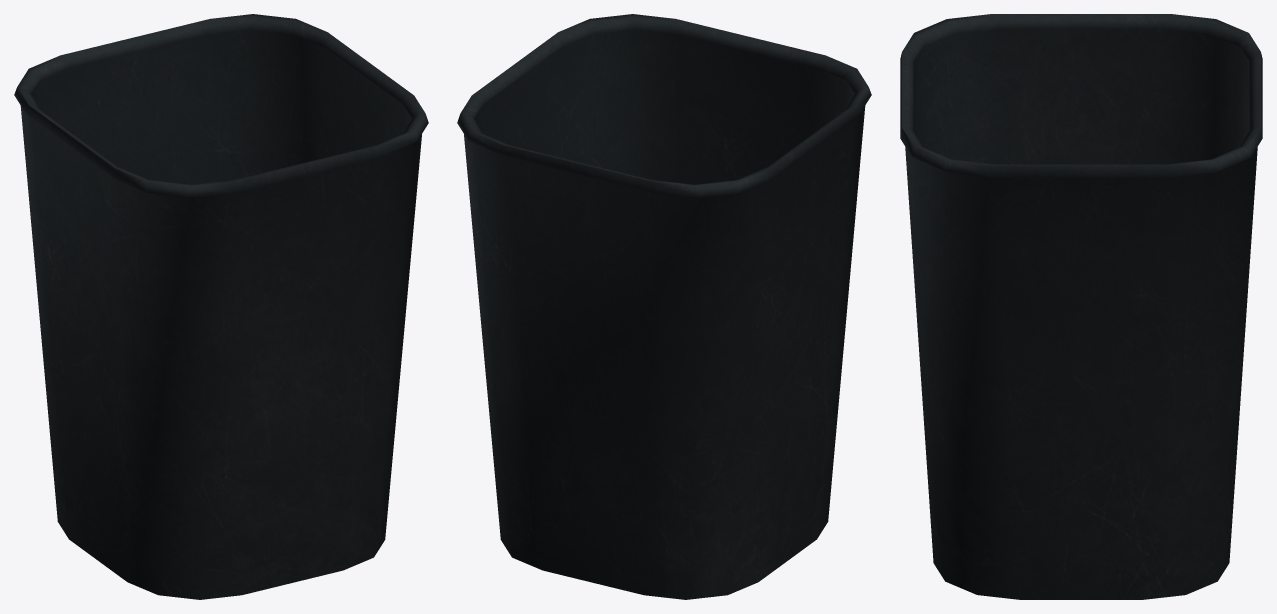
File: bin.glb
3 views of the same model, side by side, from view 1: azimuth 30°, elevation 25°; view 2: azimuth 150°, elevation 25°; view 3: azimuth 270°, elevation 25° (orthographic). The views are drawn at different scales.
Visible parts, largest first — view 1: Cube.004; view 2: Cube.004; view 3: Cube.004.
Boxes of the visible parts, <box> form: Cube.004: <box>14,14,428,599</box>; Cube.004: <box>457,14,871,599</box>; Cube.004: <box>900,14,1262,599</box>.
Size of the model in its own units: 0.5991 by 0.8165 by 0.5991.
1 material, 1 textured.
